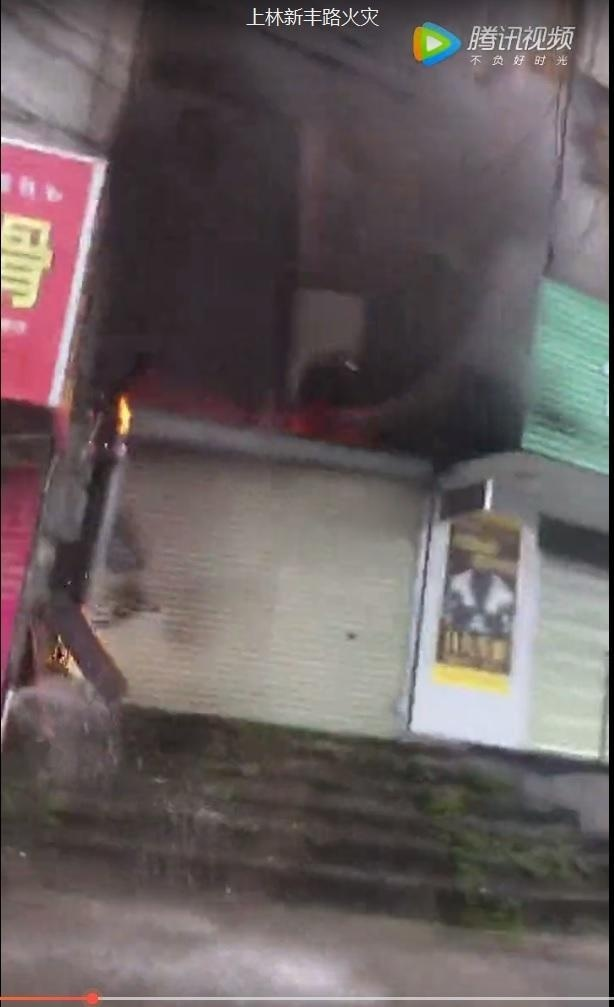fire: (108, 389, 138, 440)
